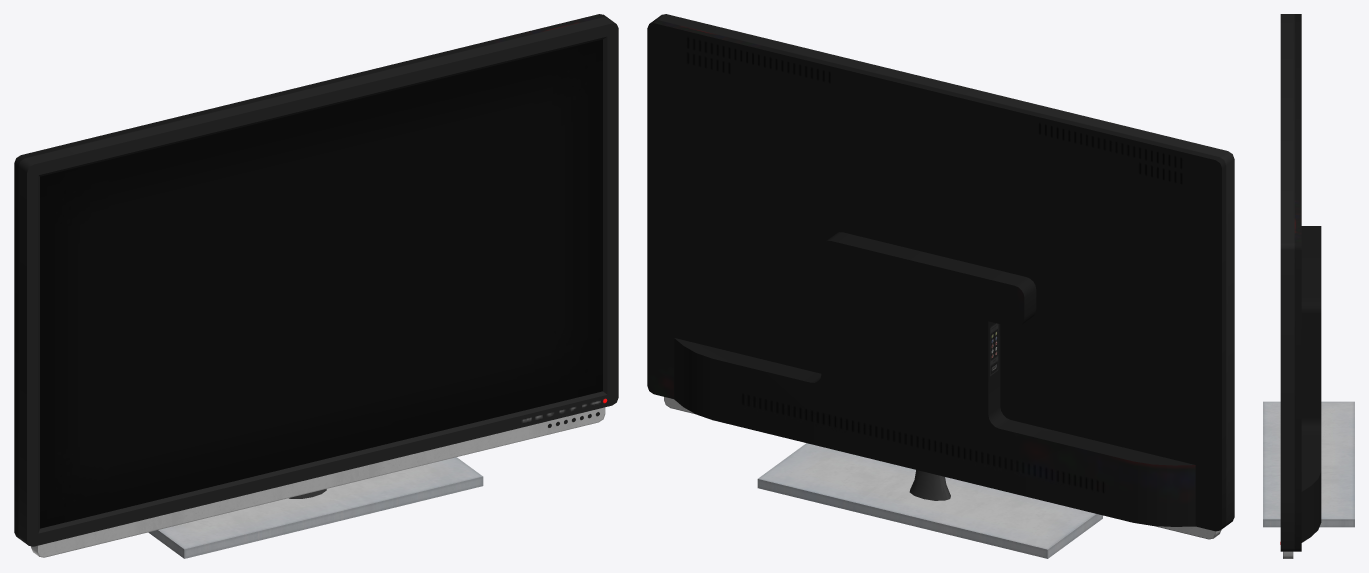
3 renders of one model, left to right at view 1: azimuth 30°, elevation 25°; view 2: azimuth 150°, elevation 25°; view 3: azimuth 270°, elevation 25°, orthographic. The views are drawn at different scales.
Visible parts, largest first — view 1: TV1; view 2: TV1; view 3: TV1.
Part boxes in pixels (x1,y1,x2,y2): TV1: (14,14,618,558); TV1: (647,14,1234,558); TV1: (1263,14,1354,558).
Size of the model in its own units: 0.85 by 0.5772 by 0.1411.
2 materials, 2 textured.
